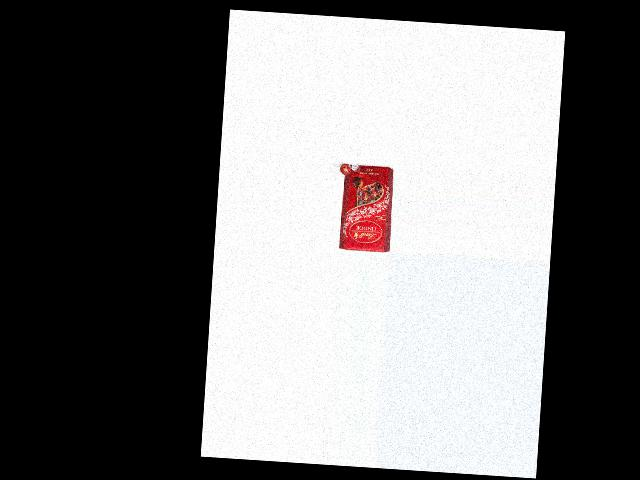chocolate: (333, 164, 393, 252)
